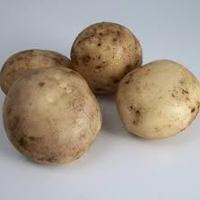biodegradable: (3, 66, 103, 166), (116, 58, 200, 140), (70, 21, 144, 95)
